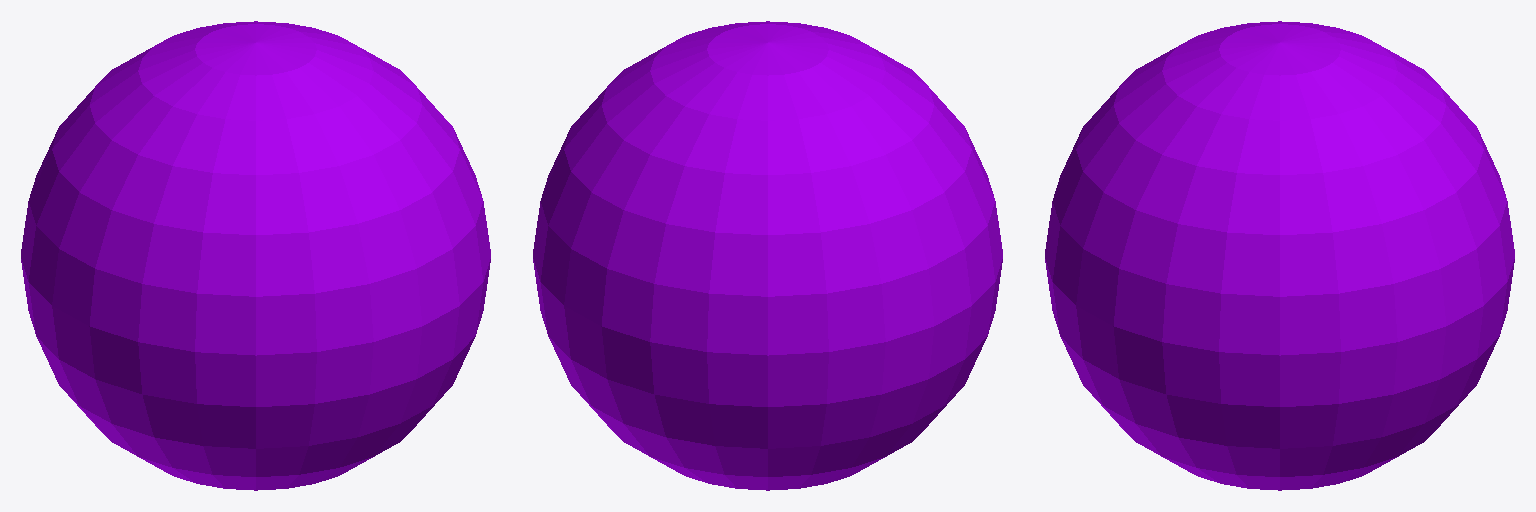
Rendered from starparticle4.obj.
3 views of the same model, side by side, from view 1: azimuth 30°, elevation 25°; view 2: azimuth 150°, elevation 25°; view 3: azimuth 270°, elevation 25° (orthographic).
Parts seen in each view (by area): view 1: Sphere; view 2: Sphere; view 3: Sphere.
Part boxes in pixels (left/top/right/bottom): Sphere: left=21, top=21, right=490, bottom=490; Sphere: left=533, top=21, right=1002, bottom=490; Sphere: left=1045, top=21, right=1514, bottom=490.
Size of the model in its own units: 38.8 by 38.8 by 38.8.